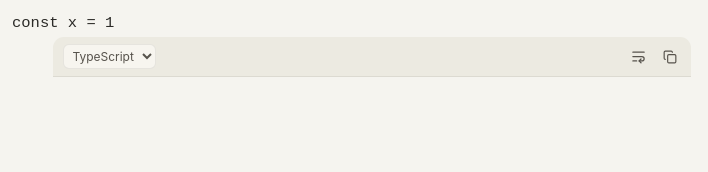
CodeBlockOverlay › wrap: 自动换行按钮切换 wrap 属性并同步 aria-pressed
Click the button named "自动换行": (638, 56) x1=624 y1=44 x2=652 y2=69
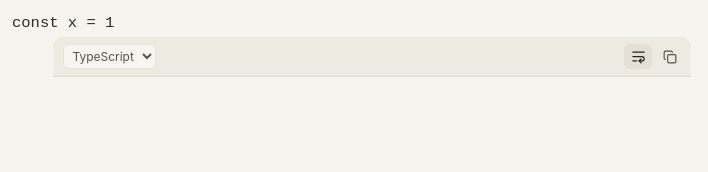
Now the button named "自动换行" is pressed
Click the button named "自动换行": (638, 56) x1=624 y1=44 x2=652 y2=69
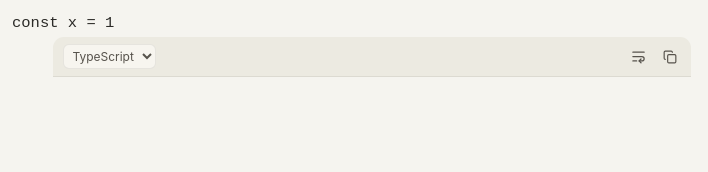
Now the button named "自动换行" is not pressed, box x1=624 y1=44 x2=652 y2=69
